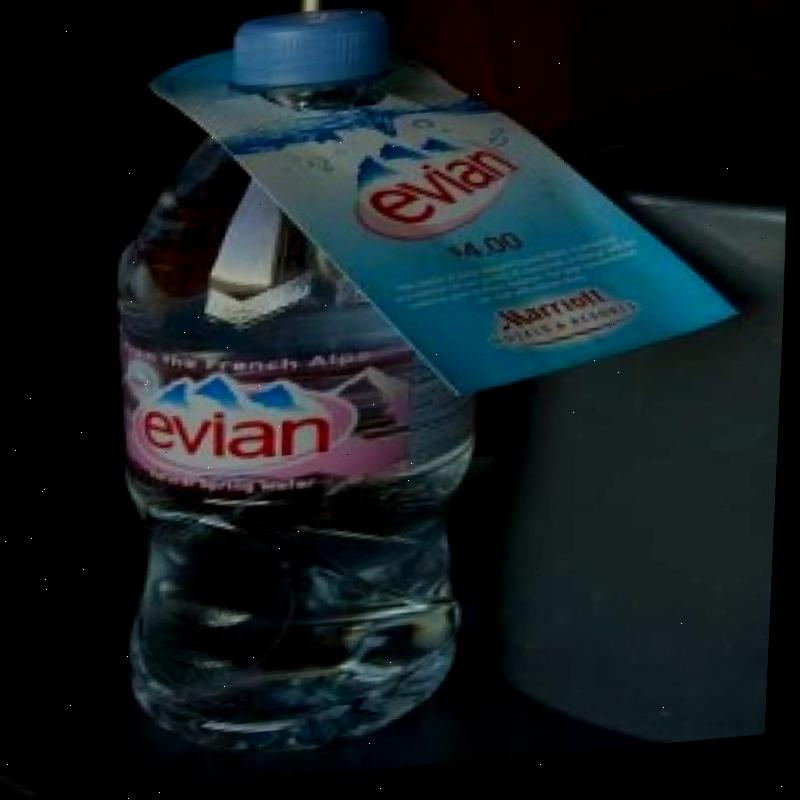botella: (87, 4, 495, 773)
